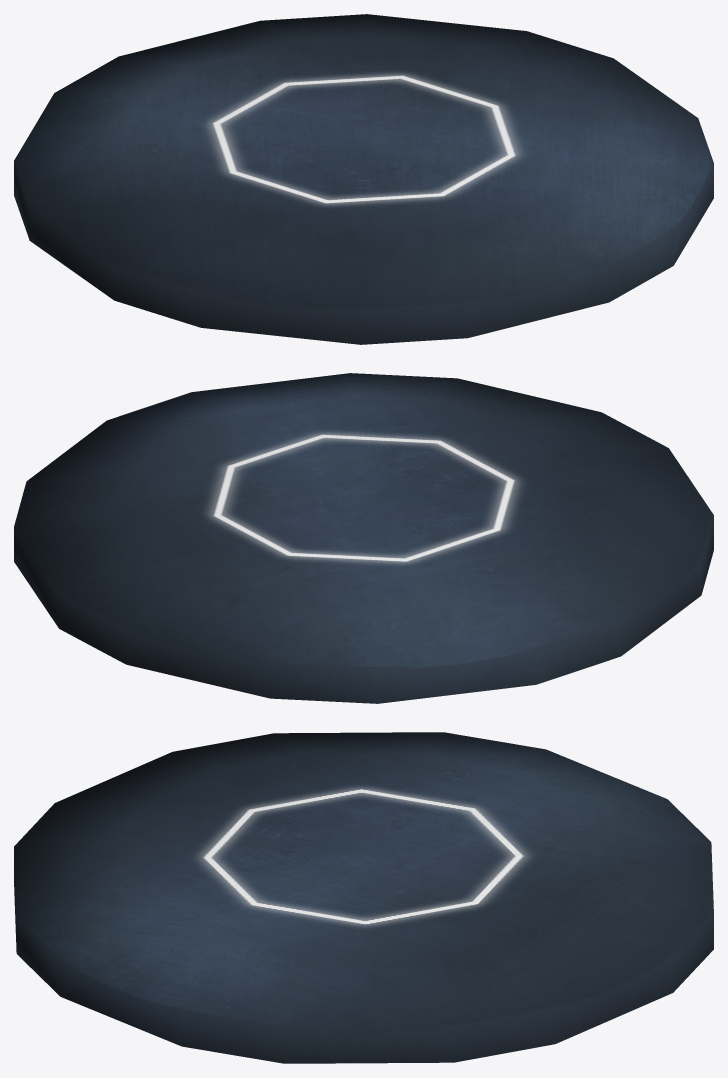
File: spawner_base.fbx
The picture shows the model from 3 angles, top to bottom: view 1: azimuth 30°, elevation 25°; view 2: azimuth 150°, elevation 25°; view 3: azimuth 270°, elevation 25°; orthographic projection. The views are drawn at different scales.
Parts seen in each view (by area): view 1: Base.001; view 2: Base.001; view 3: Base.001.
Part boxes in pixels (bbox=[...]): Base.001: bbox=[14, 14, 713, 344]; Base.001: bbox=[14, 373, 713, 703]; Base.001: bbox=[14, 732, 713, 1063].
Size of the model in its own units: 95.11 by 8.85 by 95.11.
Materials: 1 (1 with a texture image).
